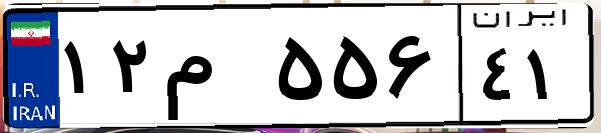1: (57, 26, 110, 100), (525, 38, 570, 115)
2: (110, 28, 158, 98)
4: (475, 38, 525, 113)
5: (270, 28, 330, 110), (330, 28, 385, 110)
6: (385, 28, 445, 110)
م: (158, 20, 270, 120)
